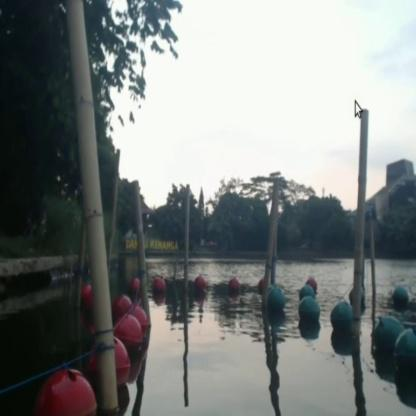green_buoy: (395, 327, 415, 393), (297, 295, 319, 331), (374, 316, 394, 354), (328, 303, 348, 334), (266, 285, 283, 319), (391, 284, 406, 314), (298, 285, 314, 298)
red_buoy: (41, 370, 94, 413), (122, 319, 144, 353), (134, 308, 152, 339), (116, 340, 128, 382), (191, 277, 206, 296), (226, 278, 240, 296), (116, 294, 127, 314), (82, 288, 92, 309), (153, 282, 165, 298), (130, 278, 140, 292), (306, 278, 316, 288)
